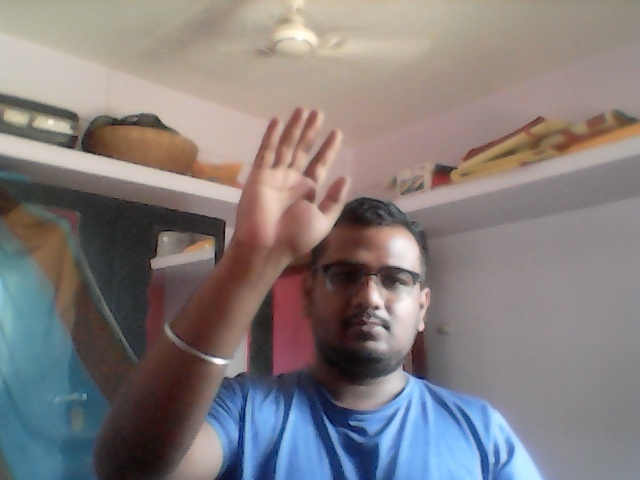Hello: (236, 104, 354, 273)
